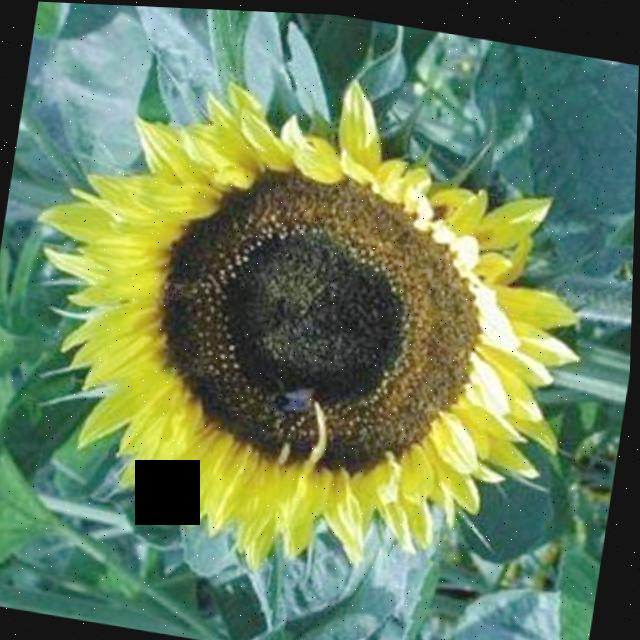sunflower: (0, 14, 640, 619)
